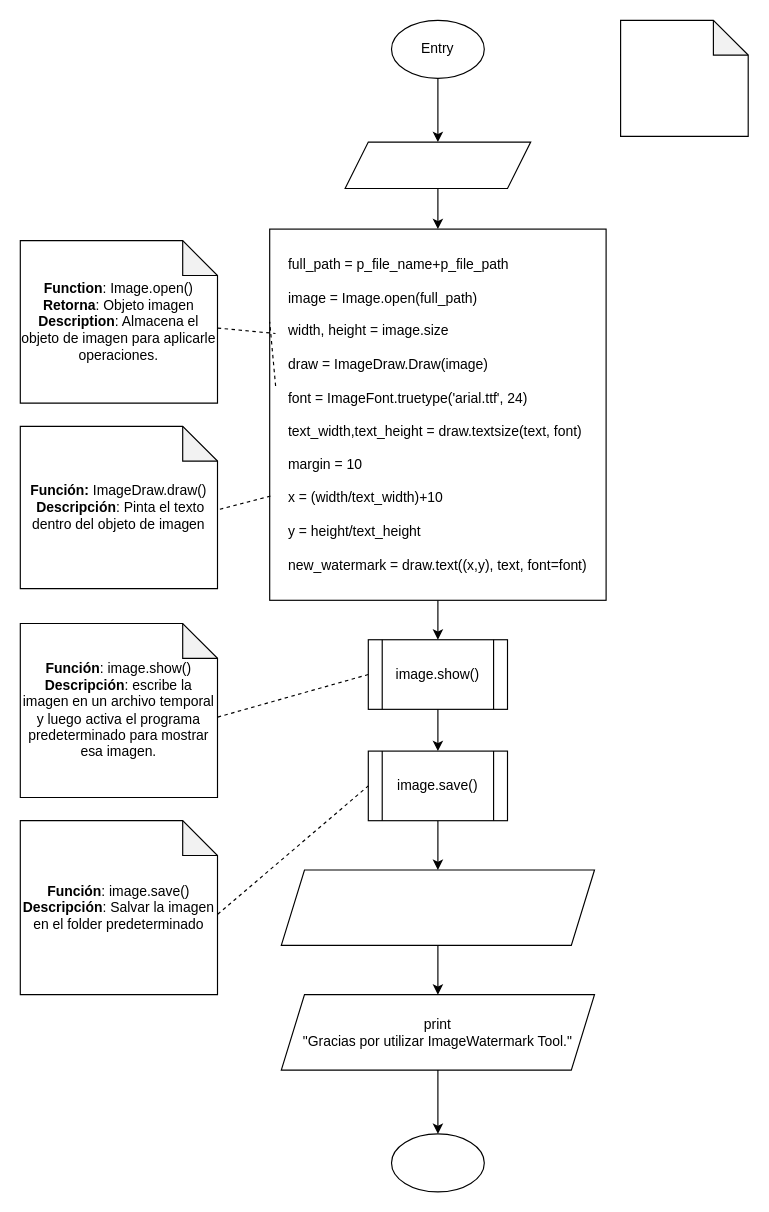
Image size: 769x1212. Some labels were removed from this diagram. Here are the shapes that lost their labels. From the top down, the box of each, then its label:
(619, 19, 748, 136): Función: wm_text()
(344, 141, 531, 188): read p_file_name, p_file_path
(280, 869, 594, 945): print "Imagen guardada en la ruta destinada: "C:/ImgWatermark/Saved/"
(390, 1133, 484, 1192): End
